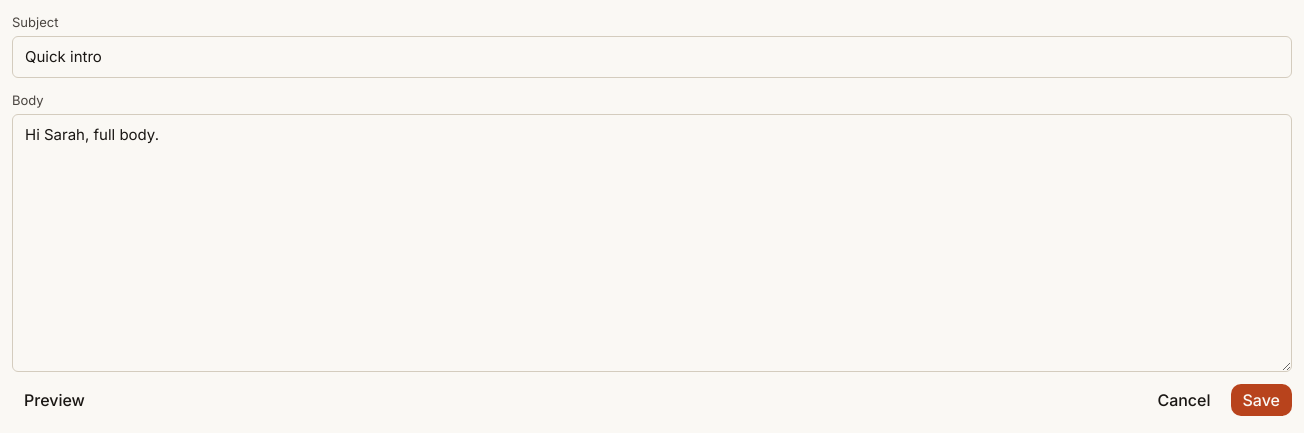
<CardEditor /> autosave › Preview toggle swaps to read-only frame
What coordinates should you click on to do the following:
click the button "Preview"
I would click on:
 (54, 400)
Its box is top-left (12, 384), bottom-right (97, 416).
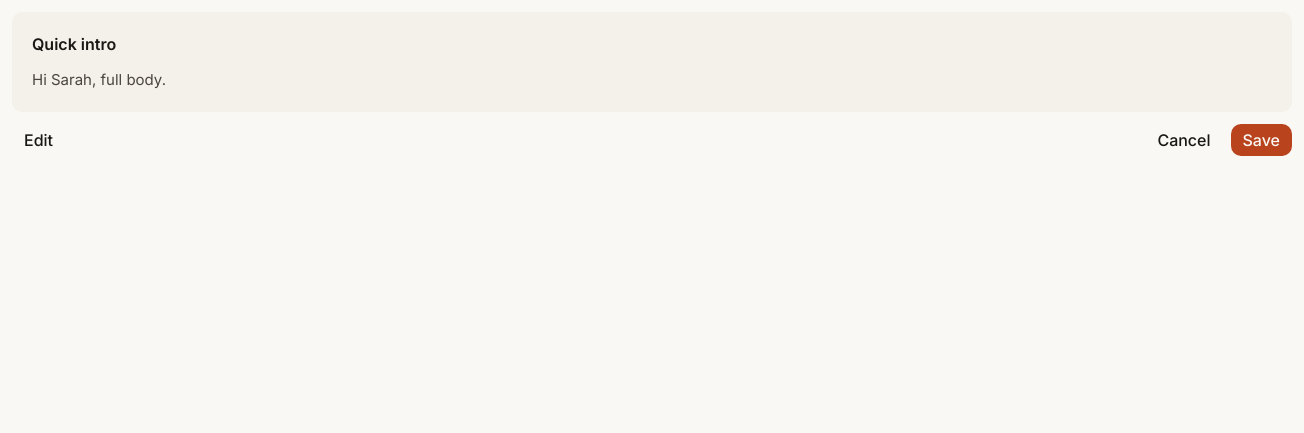
Check: the field labelled "Email subject" is gone
Check: the text "Quick intro" is shown, box top-left (32, 34), bottom-right (116, 54)
